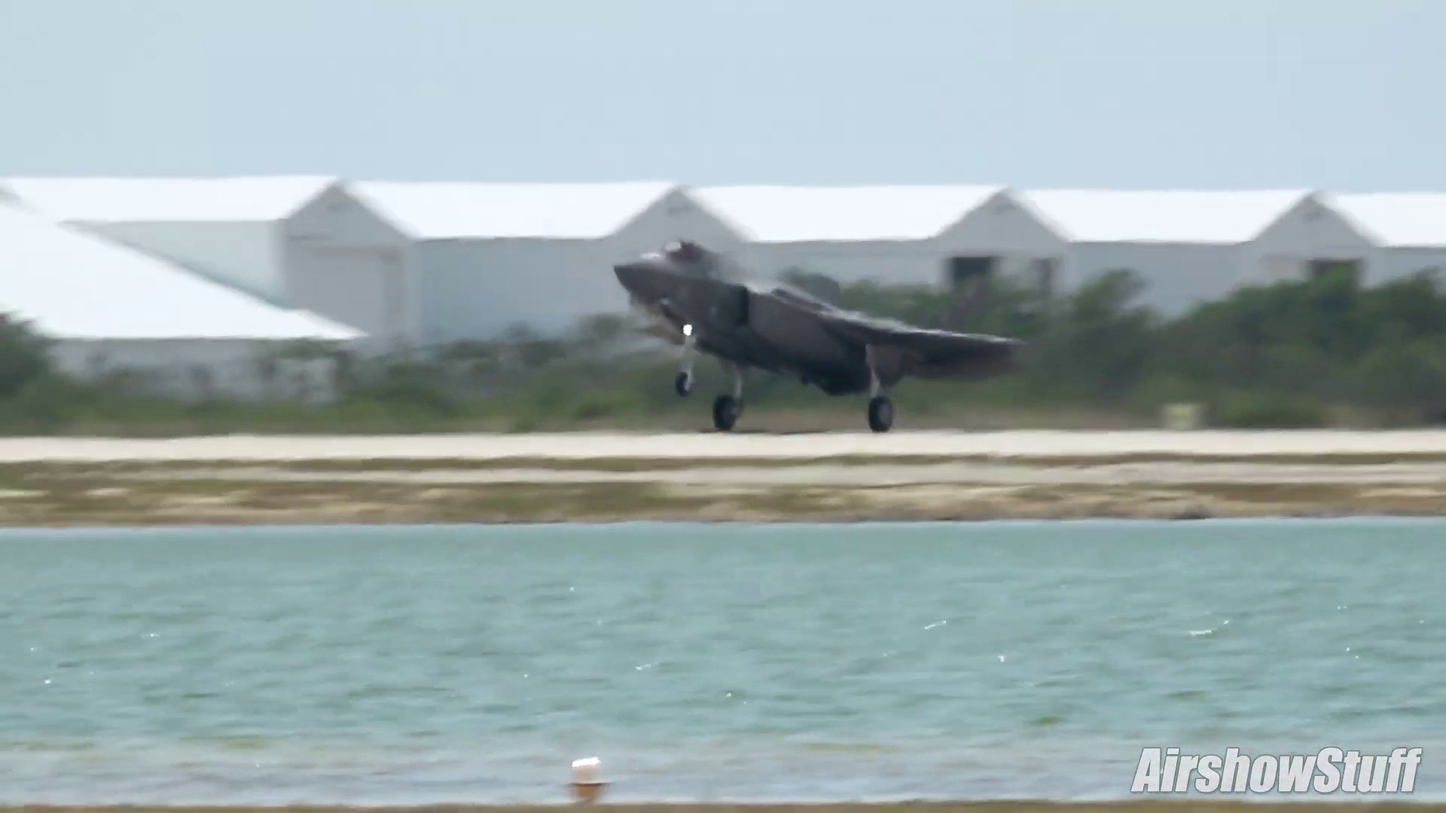F35: (602, 223, 1030, 441)
